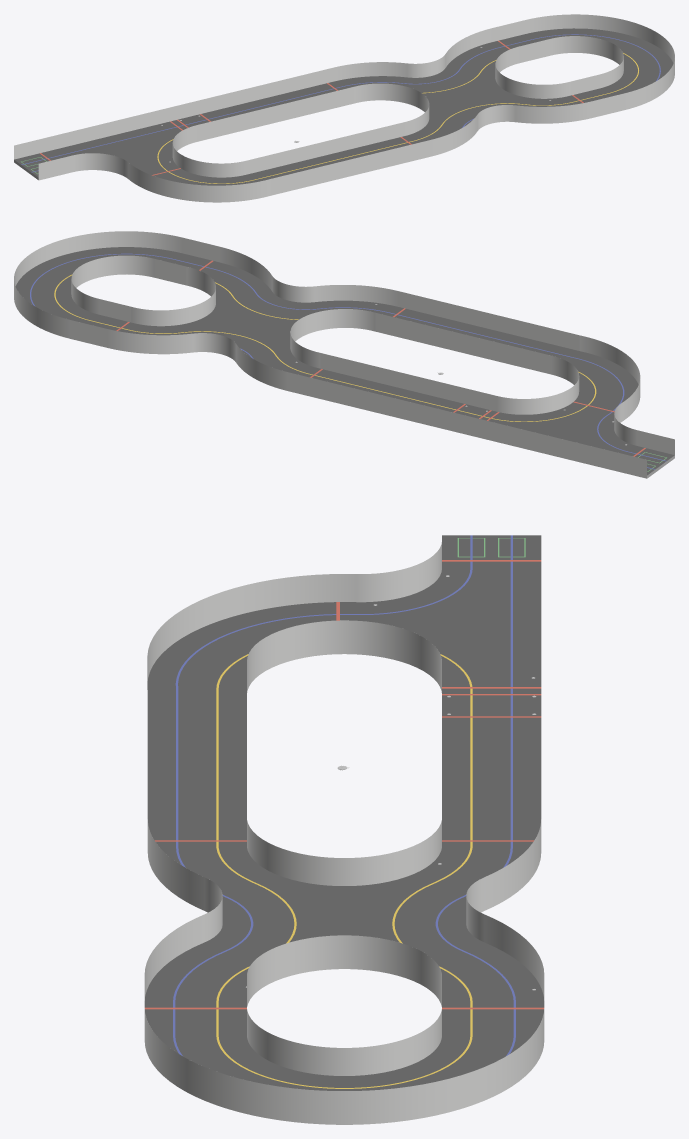
The model's file is Long_4_way.dae.
The picture shows the model from 3 angles, top to bottom: view 1: azimuth 30°, elevation 25°; view 2: azimuth 150°, elevation 25°; view 3: azimuth 270°, elevation 25°; orthographic projection. The views are drawn at different scales.
Visible parts, largest first — view 1: Four Way Long; view 2: Four Way Long; view 3: Four Way Long.
Boxes of the visible parts, left/top/right/bottom form: Four Way Long: left=14, top=14, right=674, bottom=202; Four Way Long: left=14, top=231, right=674, bottom=478; Four Way Long: left=144, top=535, right=544, bottom=1124.
Size of the model in its own units: 11.33 by 3.28 by 0.3048.
